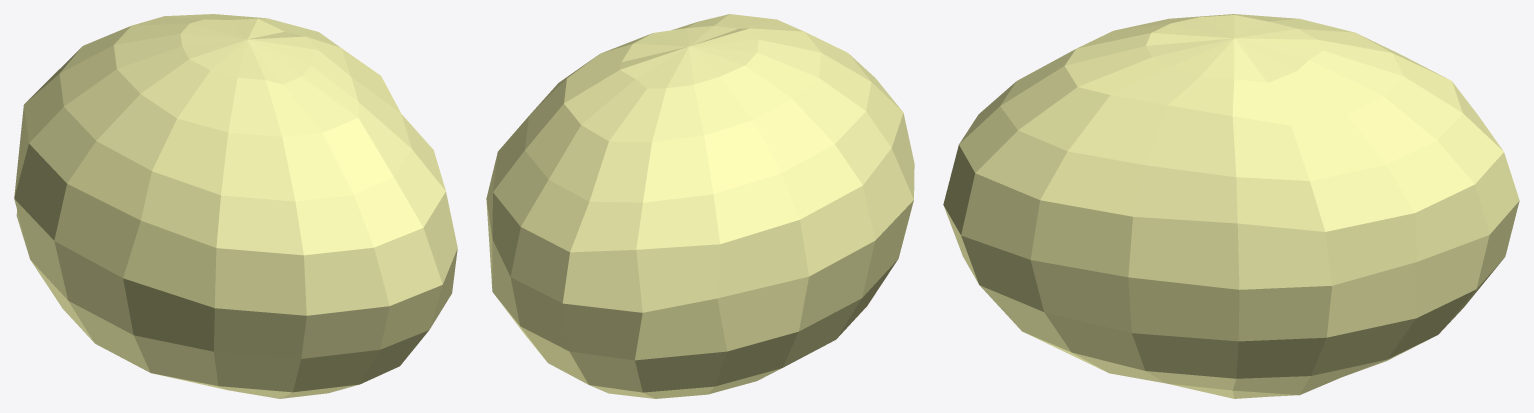
File: PotatoPeeled.fbx
3 views of the same model, side by side, from view 1: azimuth 30°, elevation 25°; view 2: azimuth 150°, elevation 25°; view 3: azimuth 270°, elevation 25° (orthographic). The views are drawn at different scales.
Parts seen in each view (by area): view 1: PotatoPeeled; view 2: PotatoPeeled; view 3: PotatoPeeled.
Boxes of the visible parts, x1,y1,x2,y2 form: PotatoPeeled: [14, 14, 457, 398]; PotatoPeeled: [486, 14, 914, 398]; PotatoPeeled: [943, 14, 1519, 398].
Bounding box in the file's own units: 193 × 165 × 259.
